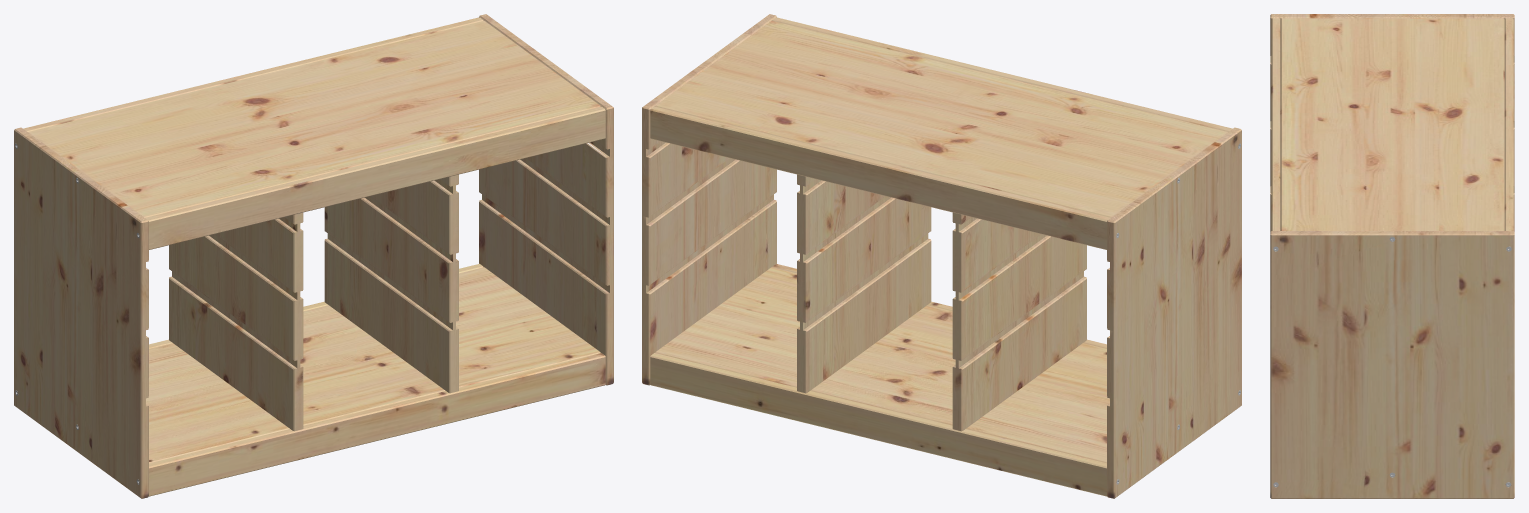
The model's file is trofast_rama_20308697.glb.
3 views of the same model, side by side, from view 1: azimuth 30°, elevation 25°; view 2: azimuth 150°, elevation 25°; view 3: azimuth 270°, elevation 25° (orthographic). The views are drawn at different scales.
Visible parts, largest first — view 1: trofast_rama_20308697; view 2: trofast_rama_20308697; view 3: trofast_rama_20308697.
Part boxes in pixels (x1,y1,x2,y2): trofast_rama_20308697: (14,14,613,498); trofast_rama_20308697: (642,14,1241,498); trofast_rama_20308697: (1270,14,1514,498).
Size of the model in its own units: 0.9309 by 0.521 by 0.4351.
1 material, 1 textured.
